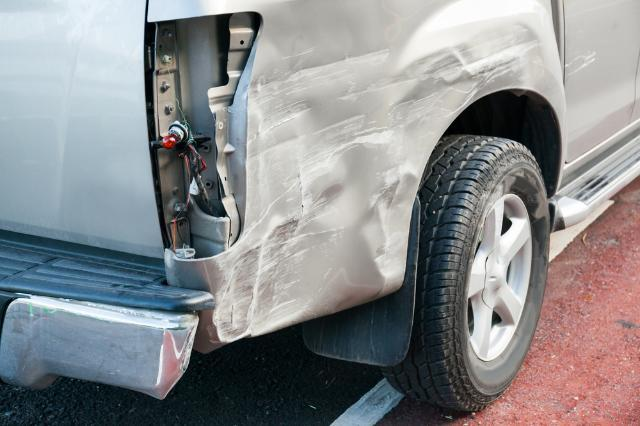dent: (213, 0, 565, 340)
no part: (145, 11, 263, 262)
